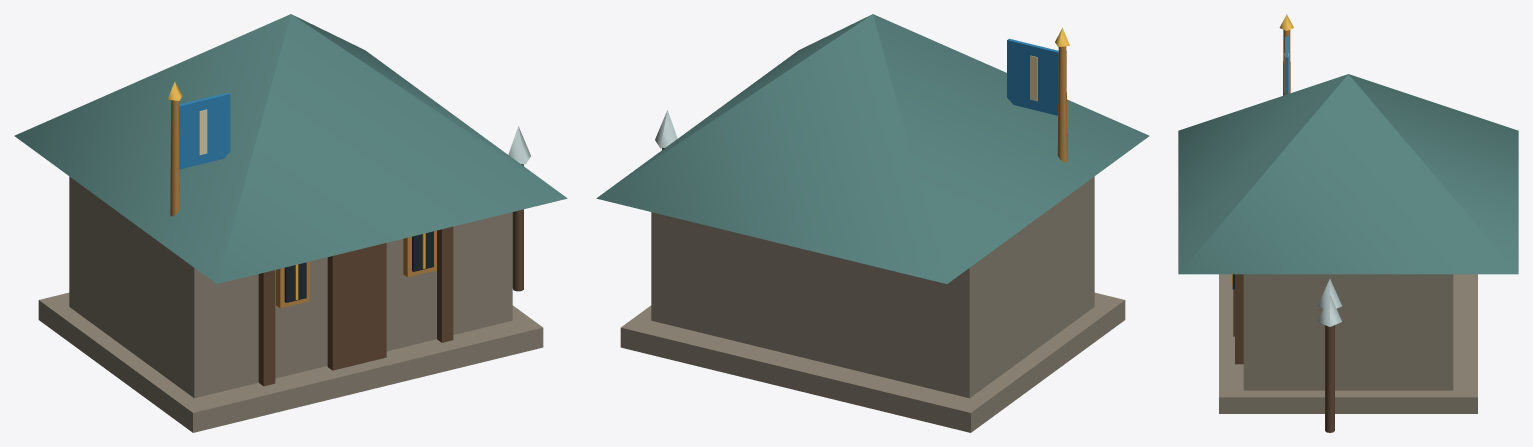
File: barracks.glb
The picture shows the model from 3 angles, left to right: view 1: azimuth 30°, elevation 25°; view 2: azimuth 150°, elevation 25°; view 3: azimuth 270°, elevation 25°; orthographic projection. The views are drawn at different scales.
Visible parts, largest first — view 1: barracks; view 2: barracks; view 3: barracks.
Part boxes in pixels (x1,y1,x2,y2): barracks: [14, 14, 567, 432]; barracks: [596, 14, 1149, 432]; barracks: [1178, 14, 1518, 432].
Bounding box in the file's own units: 6.36 × 4.8 × 5.52.
